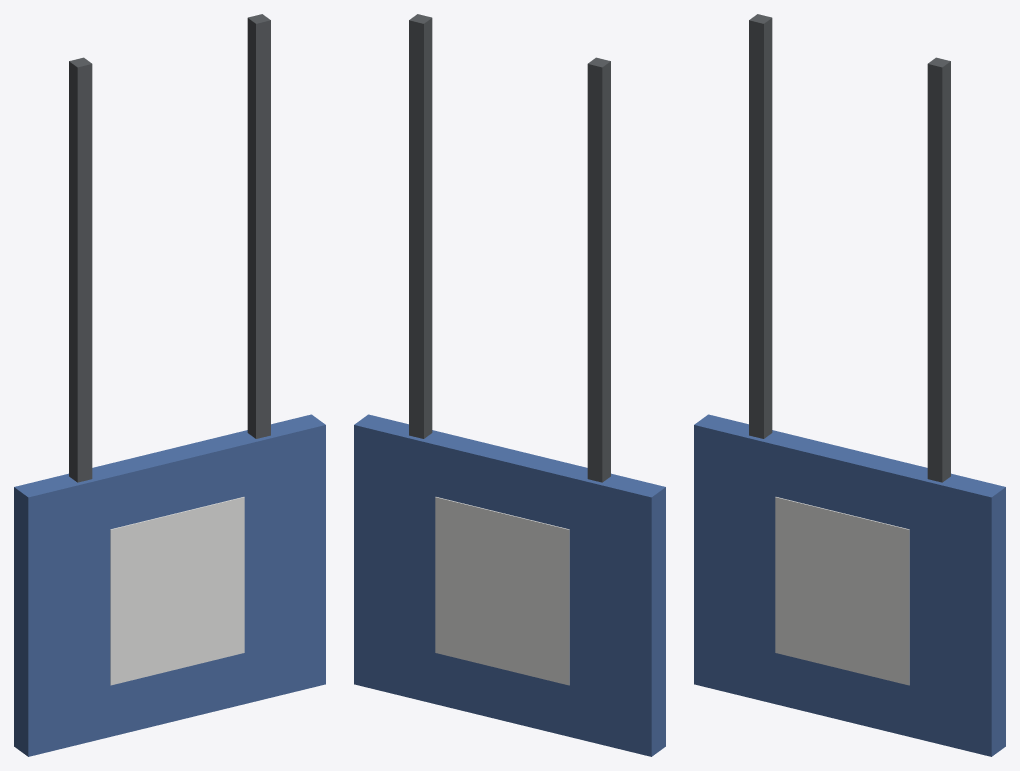
The model's file is platform-sector-sign.gltf.
The picture shows the model from 3 angles, left to right: view 1: azimuth 30°, elevation 25°; view 2: azimuth 150°, elevation 25°; view 3: azimuth 330°, elevation 25°; orthographic projection.
Visible parts, largest first — view 1: platform-sector-sign; view 2: platform-sector-sign; view 3: platform-sector-sign.
Part boxes in pixels (bbox=[...]): platform-sector-sign: bbox=[14, 14, 325, 756]; platform-sector-sign: bbox=[354, 14, 665, 756]; platform-sector-sign: bbox=[694, 14, 1005, 756].
Size of the model in its own units: 0.6 by 1.3 by 0.054.
